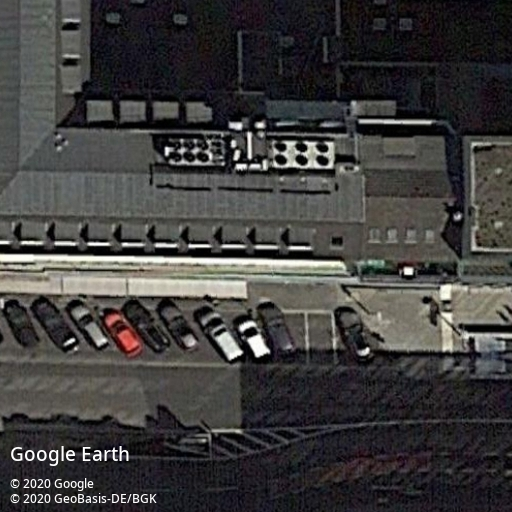Chiller: (268, 139, 336, 172), (165, 137, 214, 166)
